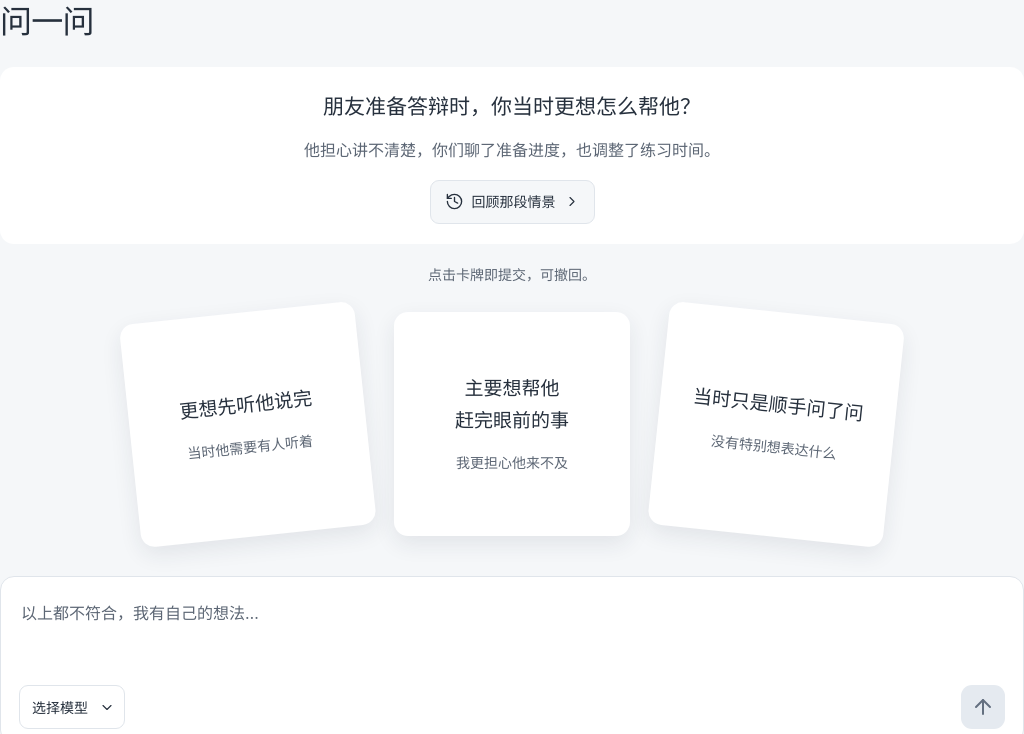
Test: 问一问页面 › 选择模型不切换路径；输入聚焦停用卡牌，切回后保留草稿并归还焦点
Select "示例模型" in the dropdown named "选择模型" at (72,707), box x1=19 y1=685 x2=125 y2=729
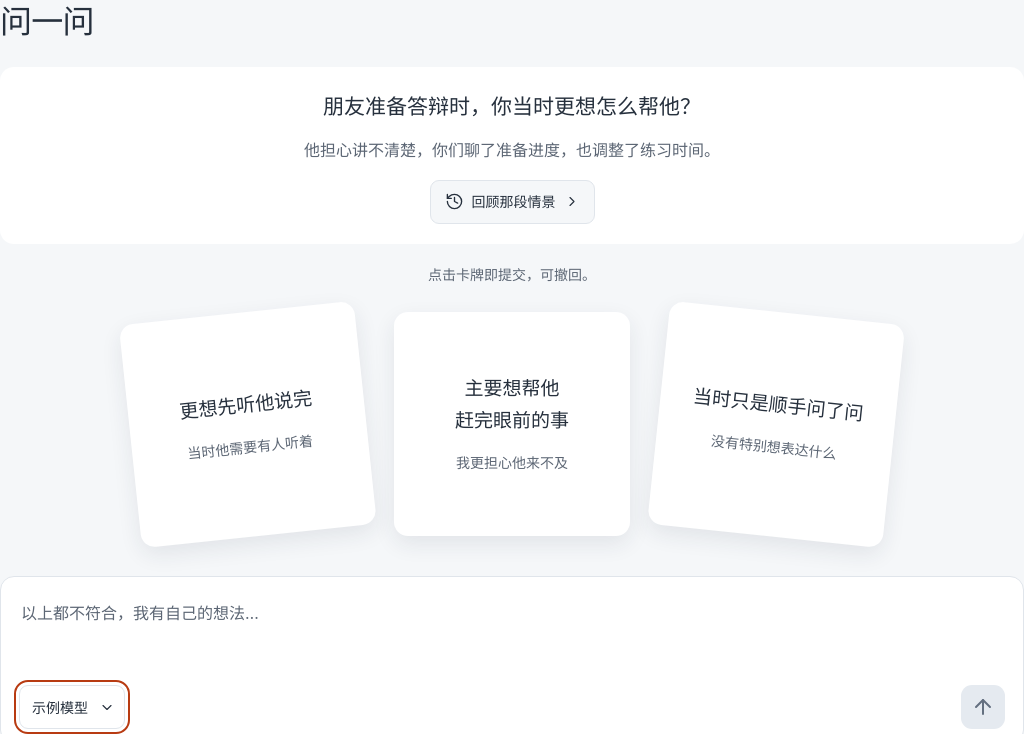
Expected: the button "更想先听他说完 当时他需要有人听着" is enabled, x1=119 y1=301 x2=377 y2=548
Type "我当时更担心他熬夜。" into the text box labelled "以上都不符合，我有自己的想法…" at (512,633), box x1=19 y1=593 x2=1005 y2=673
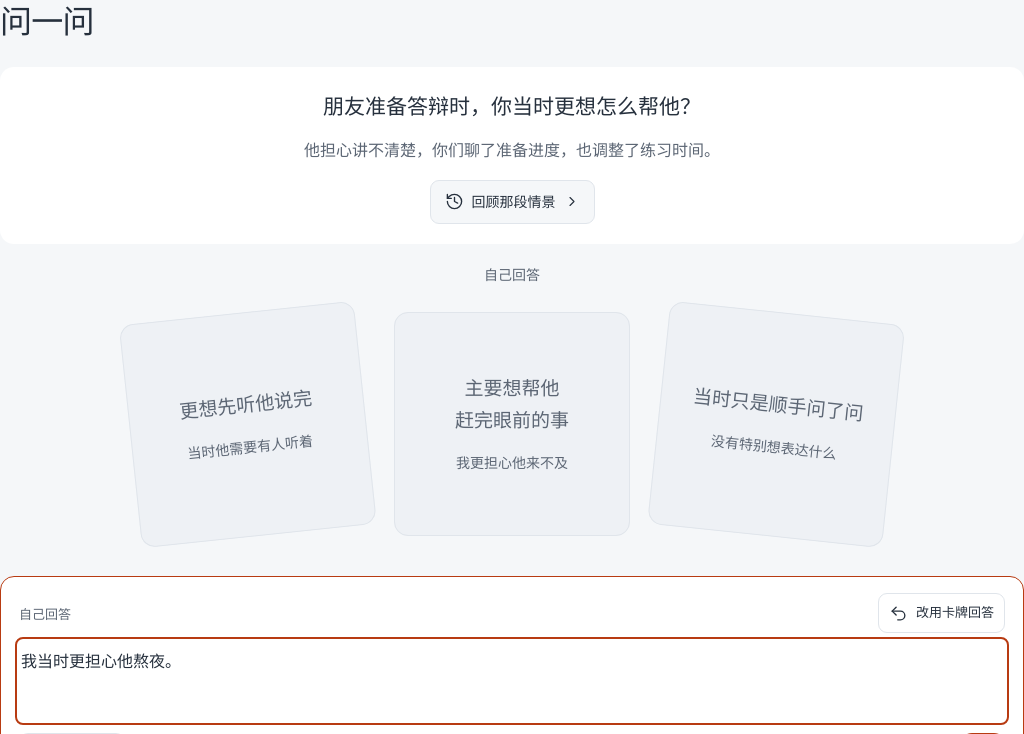
Expected: the button "更想先听他说完 当时他需要有人听着" is disabled, x1=119 y1=301 x2=377 y2=548
Click the button "改用卡牌回答" at (942,613), box x1=878 y1=593 x2=1005 y2=633
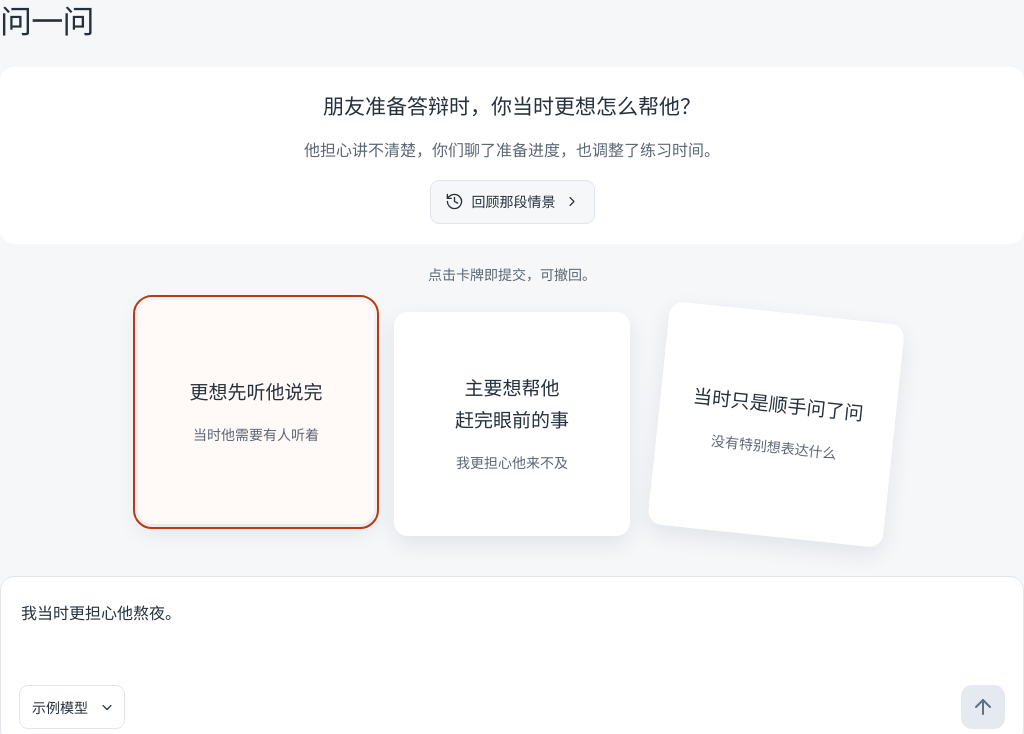
Expected: the button "更想先听他说完 当时他需要有人听着" is enabled, x1=138 y1=300 x2=374 y2=524
Expected: the button named "发送回答" is disabled, x1=961 y1=685 x2=1005 y2=729
